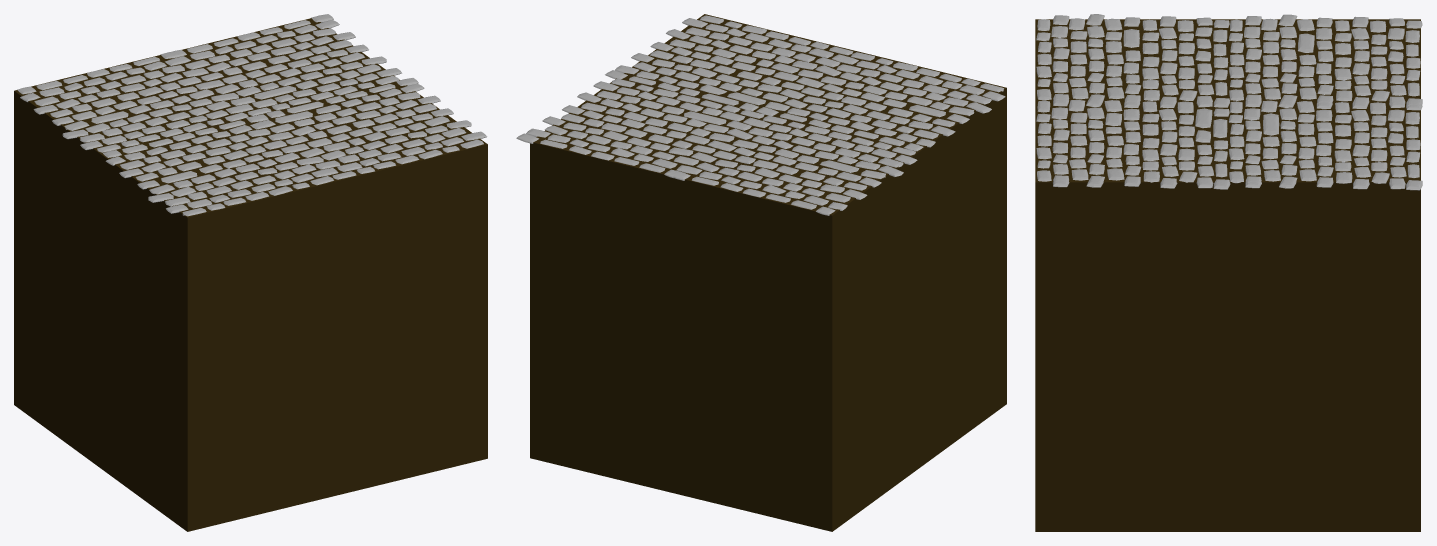
The model's file is Bloque_Adoquin.fbx.
The picture shows the model from 3 angles, left to right: view 1: azimuth 30°, elevation 25°; view 2: azimuth 150°, elevation 25°; view 3: azimuth 270°, elevation 25°; orthographic projection. The views are drawn at different scales.
Parts seen in each view (by area): view 1: pCube1, polySurface232; view 2: pCube1, polySurface232; view 3: pCube1, polySurface232.
Part boxes in pixels (bbox=[...]): pCube1: bbox=[14, 18, 487, 531]; polySurface232: bbox=[17, 14, 486, 216]; pCube1: bbox=[530, 14, 1006, 531]; polySurface232: bbox=[516, 15, 1005, 215]; pCube1: bbox=[1035, 19, 1420, 531]; polySurface232: bbox=[1036, 14, 1422, 190].
Size of the model in its own units: 54.15 by 50.26 by 50.22.
